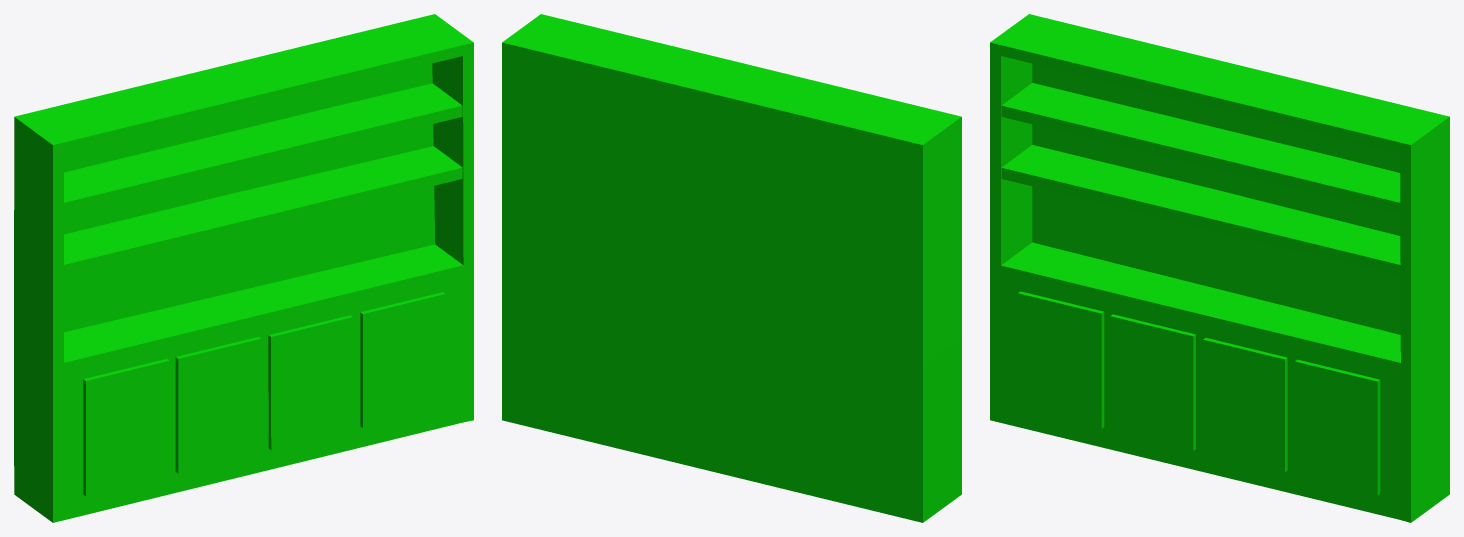
File: EstanteriaMueble02.fbx
3 renders of one model, left to right at view 1: azimuth 30°, elevation 25°; view 2: azimuth 150°, elevation 25°; view 3: azimuth 330°, elevation 25°, orthographic.
Parts seen in each view (by area): view 1: pCube256; view 2: pCube256; view 3: pCube256.
Boxes of the visible parts, x1,y1,x2,y2 form: pCube256: [14, 14, 473, 522]; pCube256: [502, 14, 961, 522]; pCube256: [990, 14, 1449, 522].
Size of the model in its own units: 2.56 by 2.2 by 0.4386.
